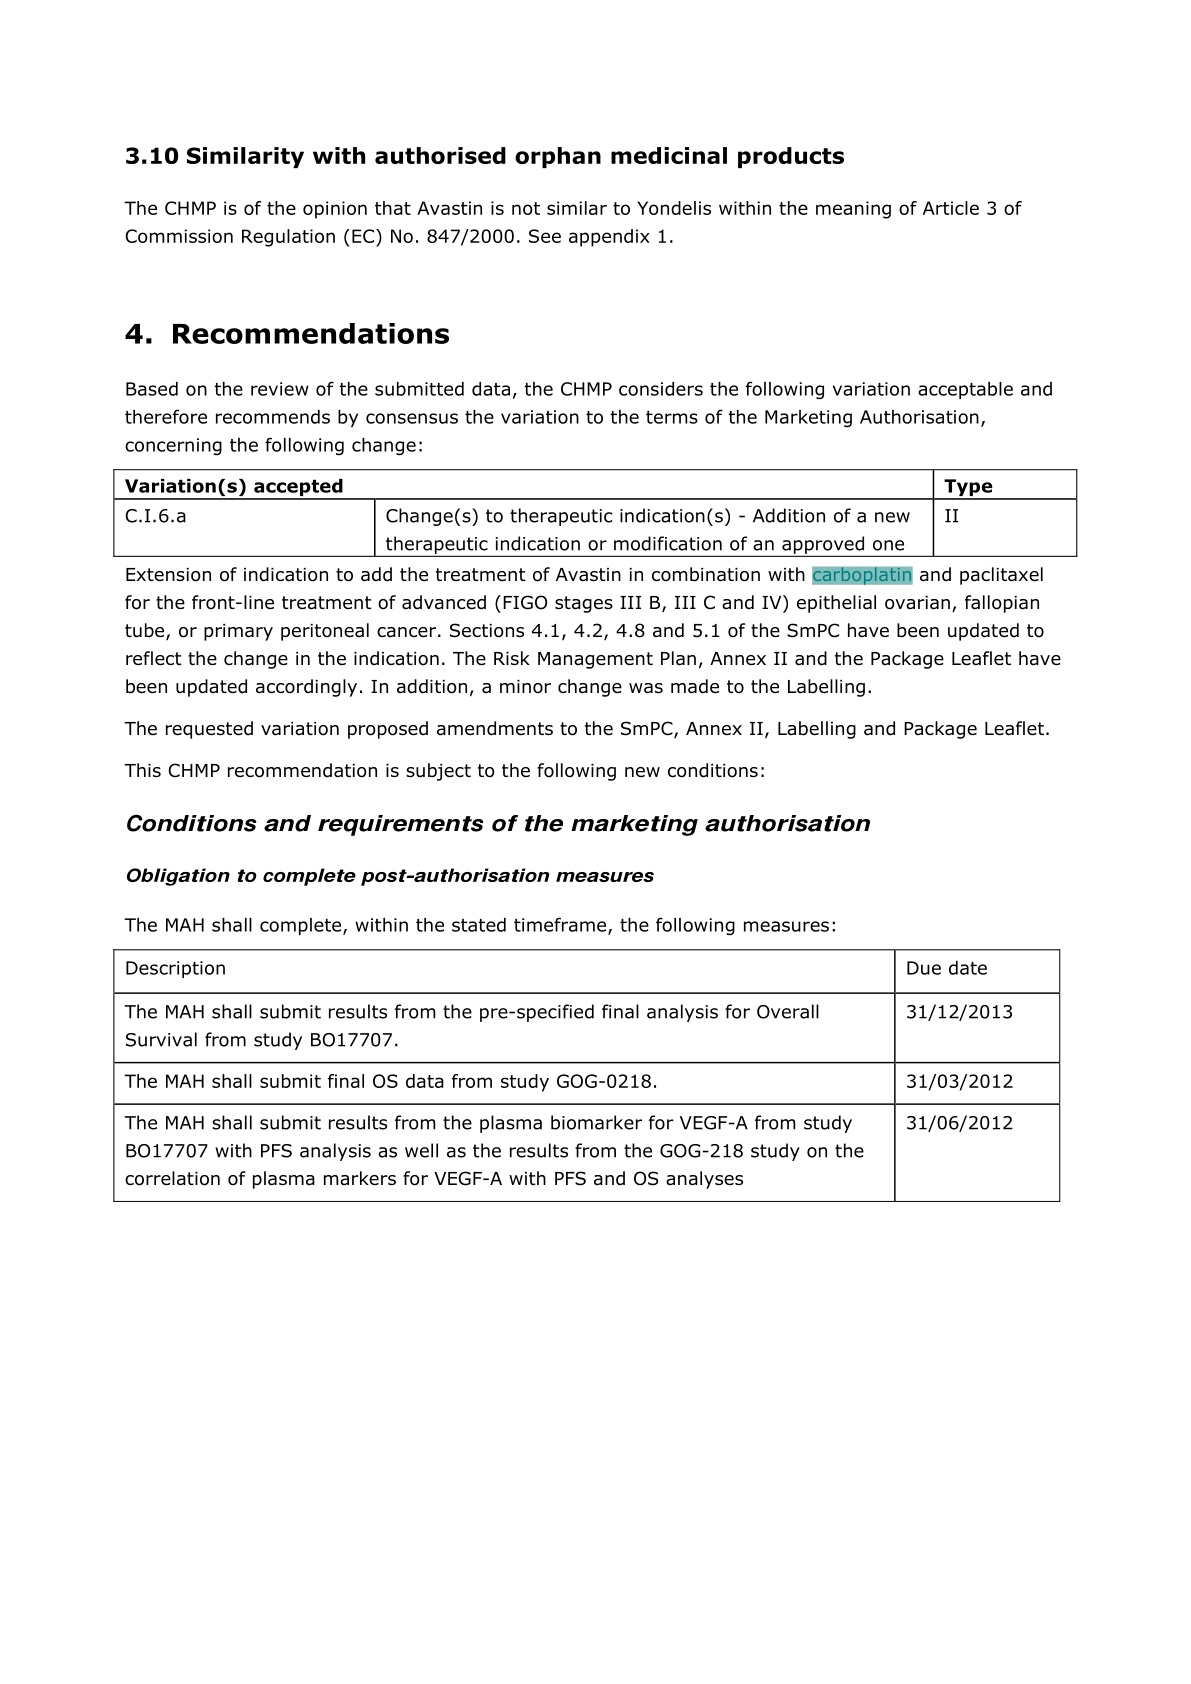full_lined: (113, 948, 1061, 1202)
merged_cells: (113, 466, 1078, 558)
